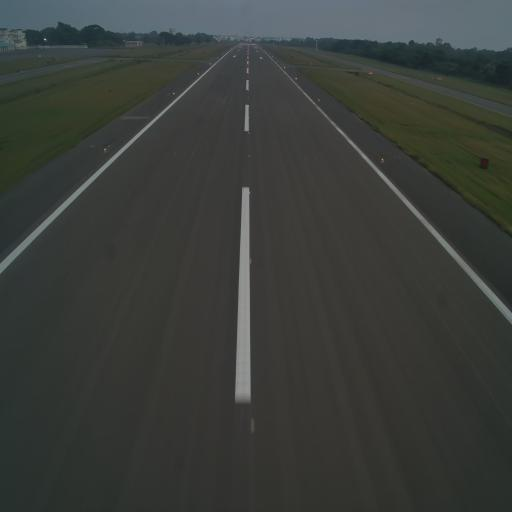off: (296, 154, 300, 162), (305, 155, 309, 163), (173, 151, 178, 157), (182, 150, 186, 156), (191, 152, 195, 158), (314, 155, 316, 162), (197, 114, 200, 118), (203, 114, 206, 118), (281, 116, 284, 120), (287, 116, 289, 122), (293, 118, 295, 122), (210, 115, 212, 117)
on: (248, 254, 254, 267), (102, 145, 108, 155), (380, 155, 385, 163), (246, 152, 251, 160), (316, 96, 321, 104), (248, 188, 252, 196), (246, 128, 250, 136), (172, 91, 177, 96), (247, 115, 251, 120)
